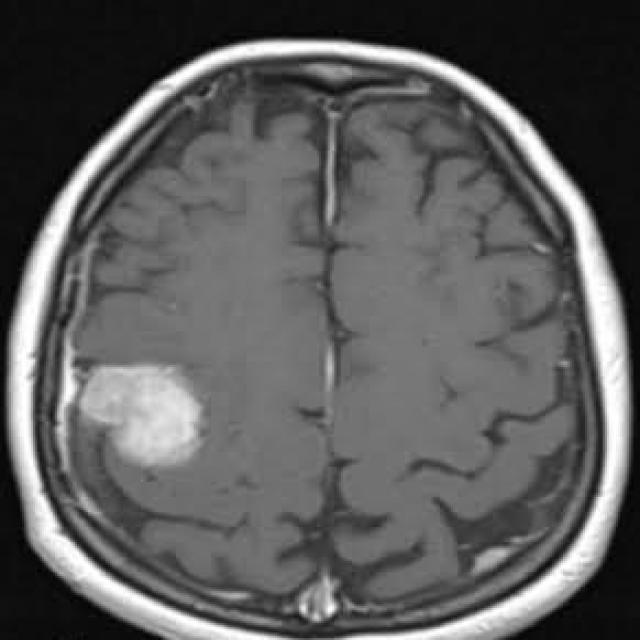Tumor: (73, 354, 214, 478)
